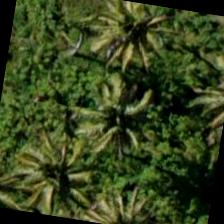Kelapa_Sawit: (66, 68, 170, 170), (3, 123, 105, 222), (81, 0, 183, 85), (0, 139, 43, 214)
